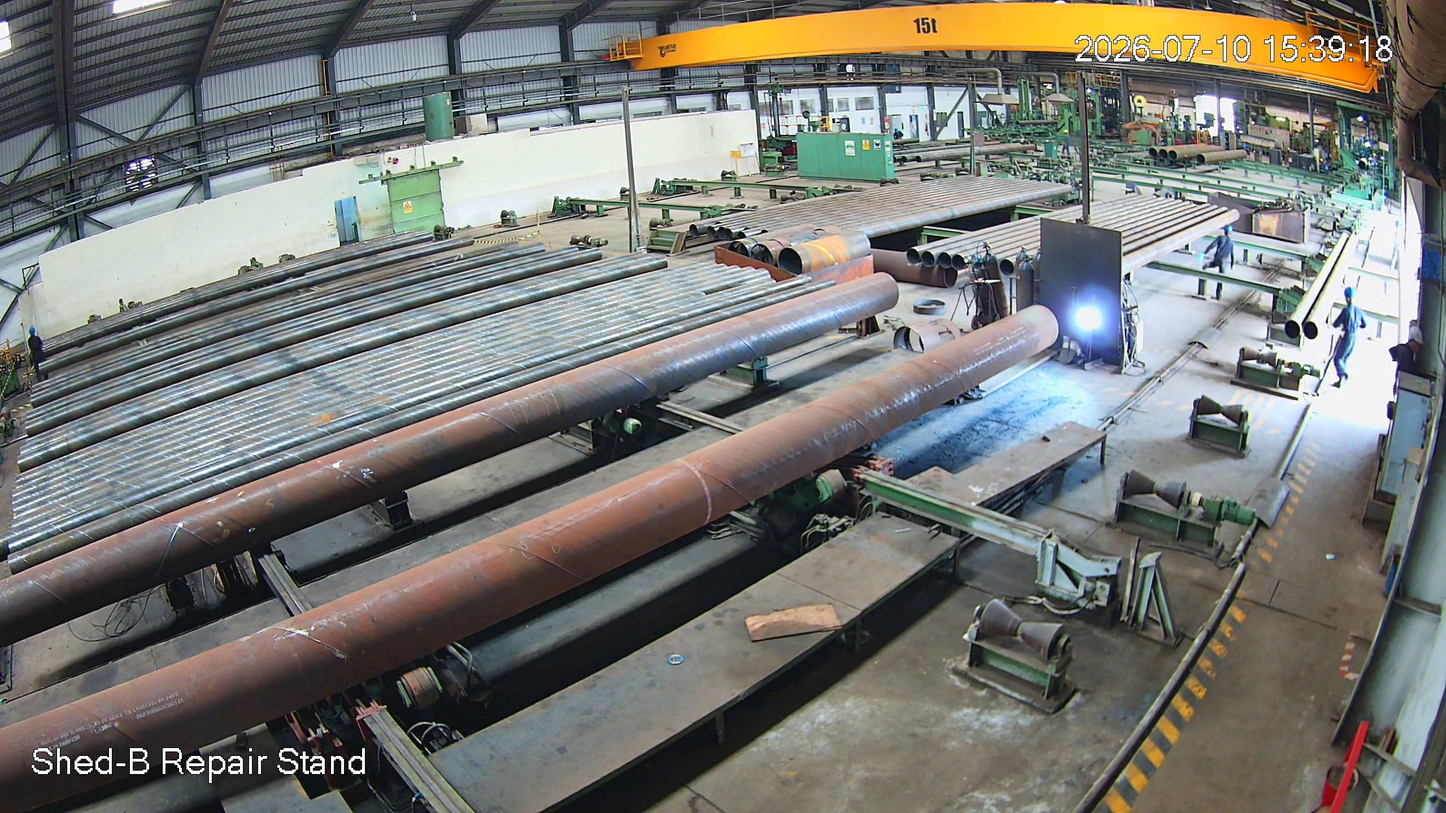Helmet: (1338, 283, 1360, 307), (1215, 222, 1234, 245)
Person: (1332, 286, 1365, 400), (1201, 224, 1241, 302)
